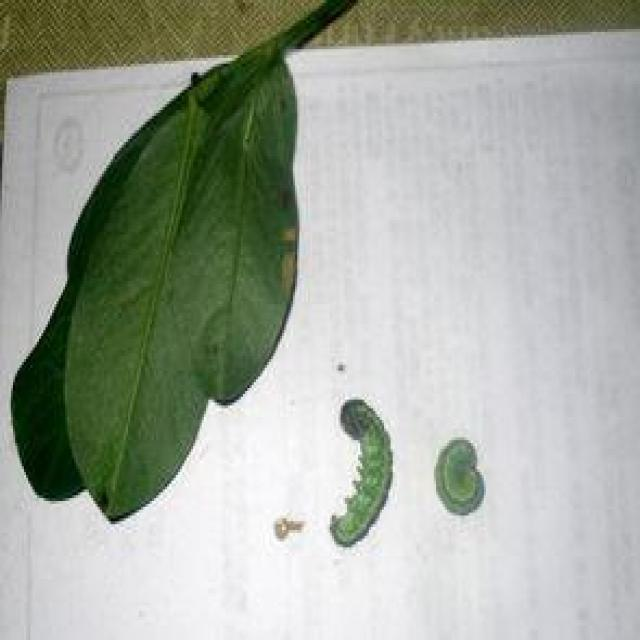BeetArmyWorm-Larva-: (315, 388, 406, 558), (432, 425, 504, 520)
